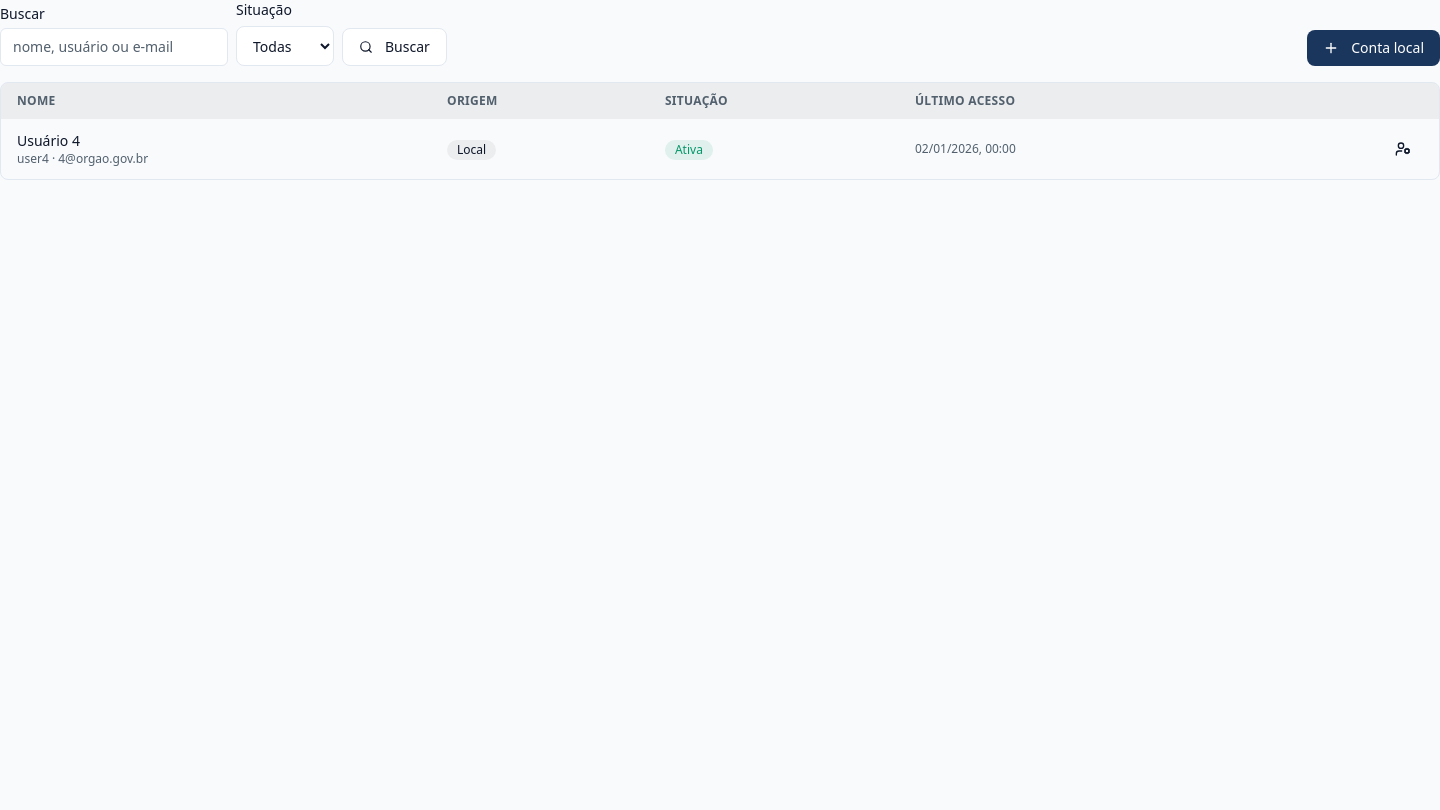
Test: Configurações > Usuários › usuário inexistente no detalhe
Click the button named "Gerenciar user4".
click(1403, 149)  # box [1383,135,1423,163]
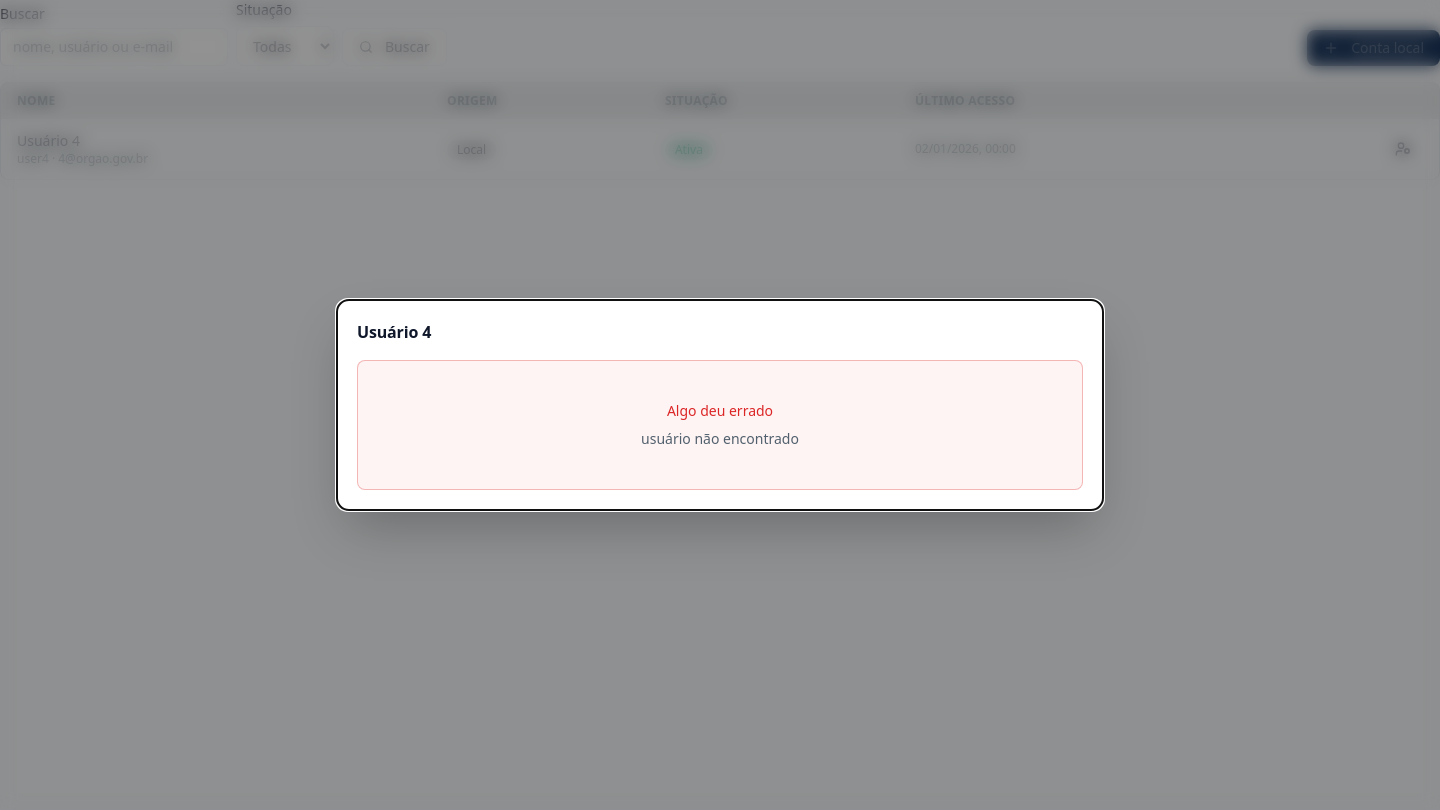
expect the text "usuário não encontrado" is shown: met, box [641,429,799,449]
